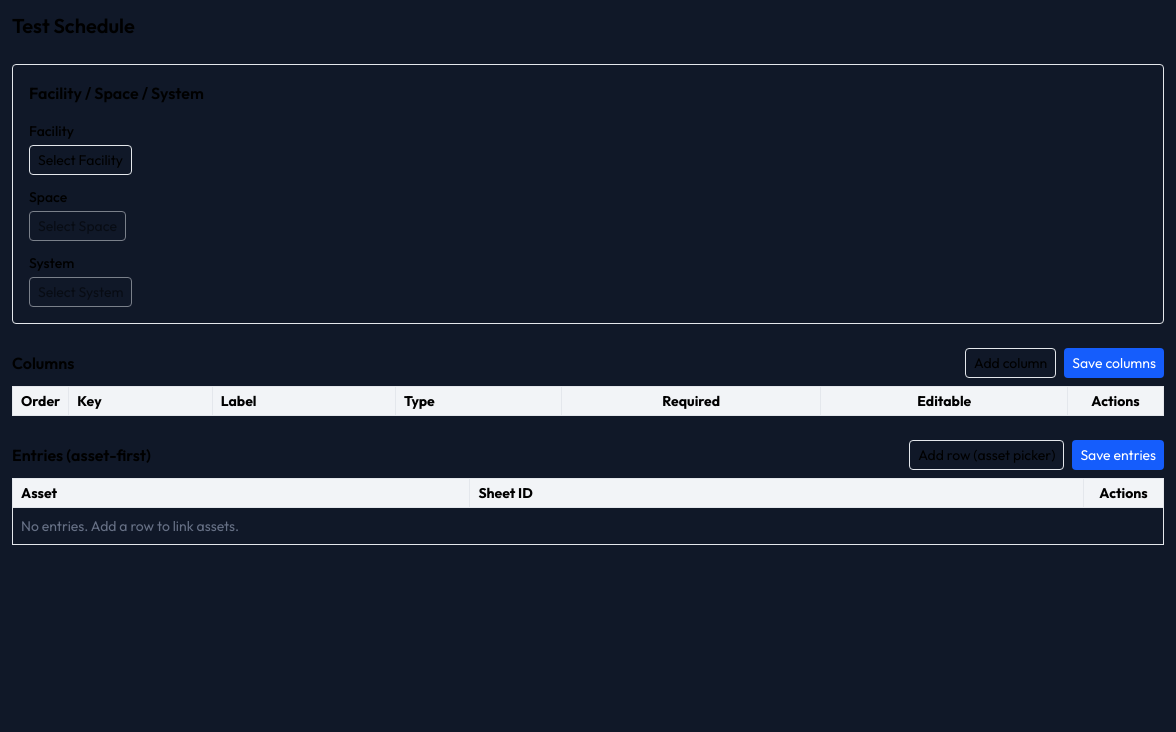
Test: ScheduleEditor › facility selection enables space/system search inputs
The image size is (1176, 732).
Click "Select Facility"
Click the button "Select Facility". click: [80, 160]
box: [29,145,132,175]
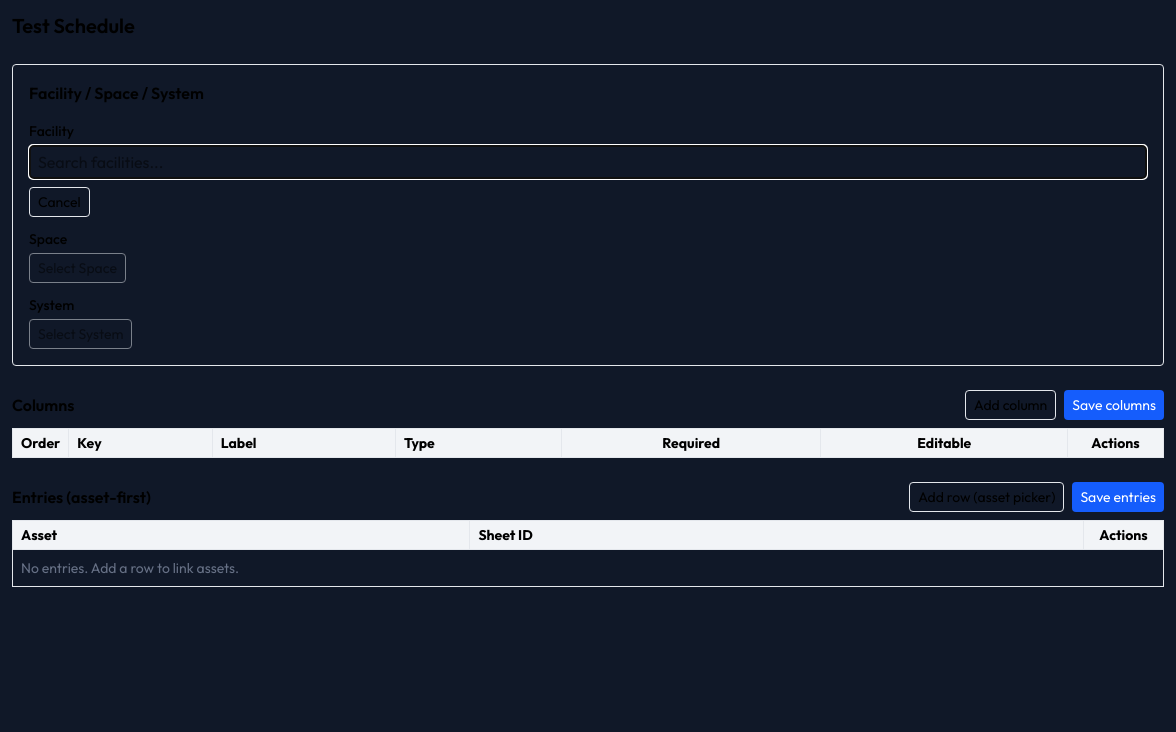
Type in facility search
Type "building" into the field with placeholder "Search facilities...". click: [588, 162]
box: [29,145,1147,179]
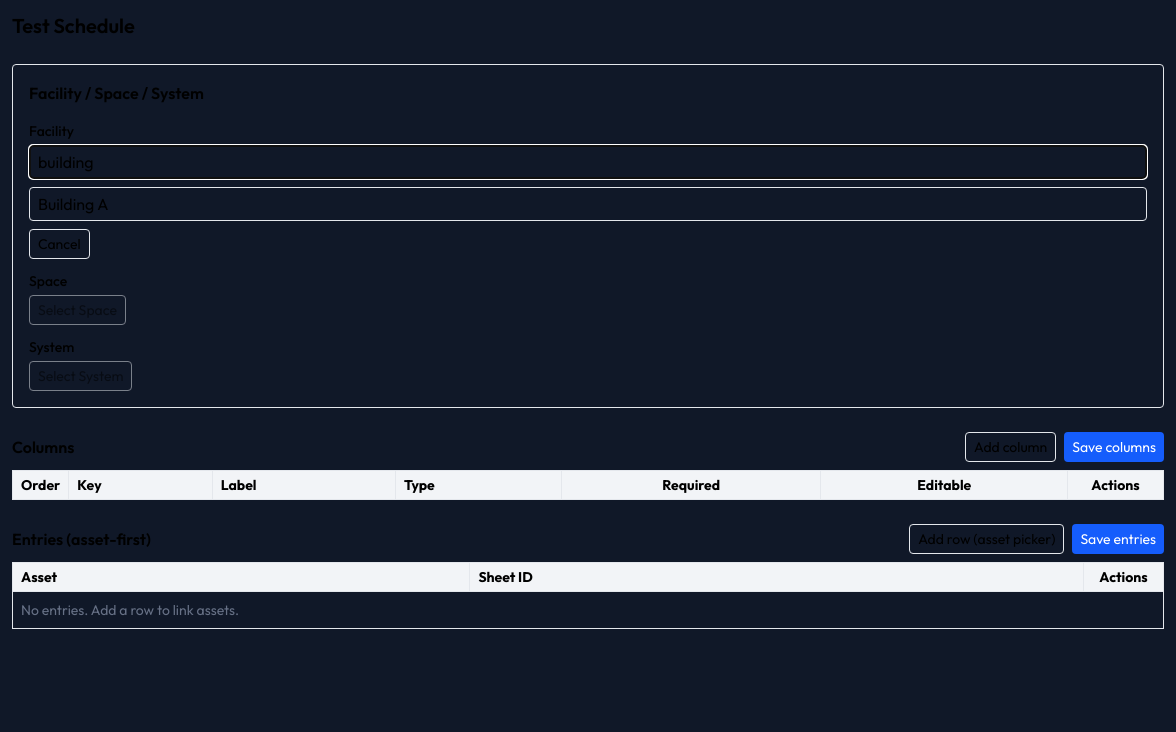
Expected: the list item "Building A" is shown
Click the list item "Building A". click: [73, 204]
box: [38,194,108,214]
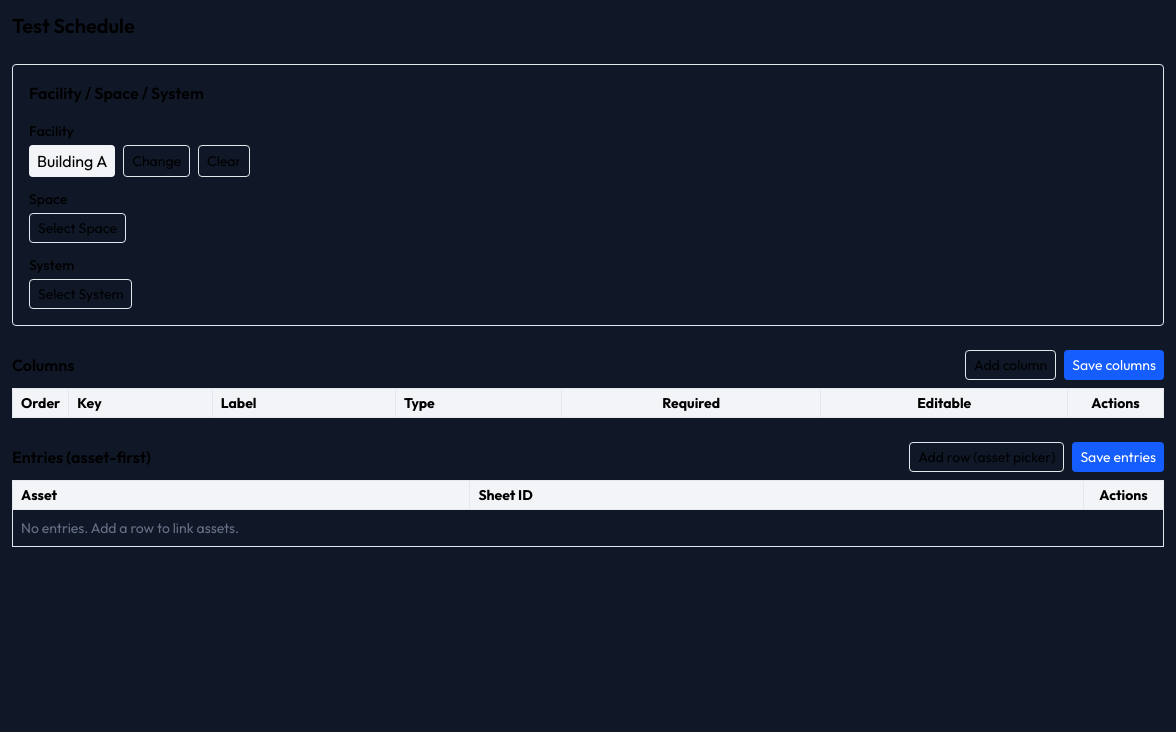
Expected: the button "Select Space" is enabled, [29,213,126,243]
Expected: the button "Select System" is enabled, [29,279,132,309]
